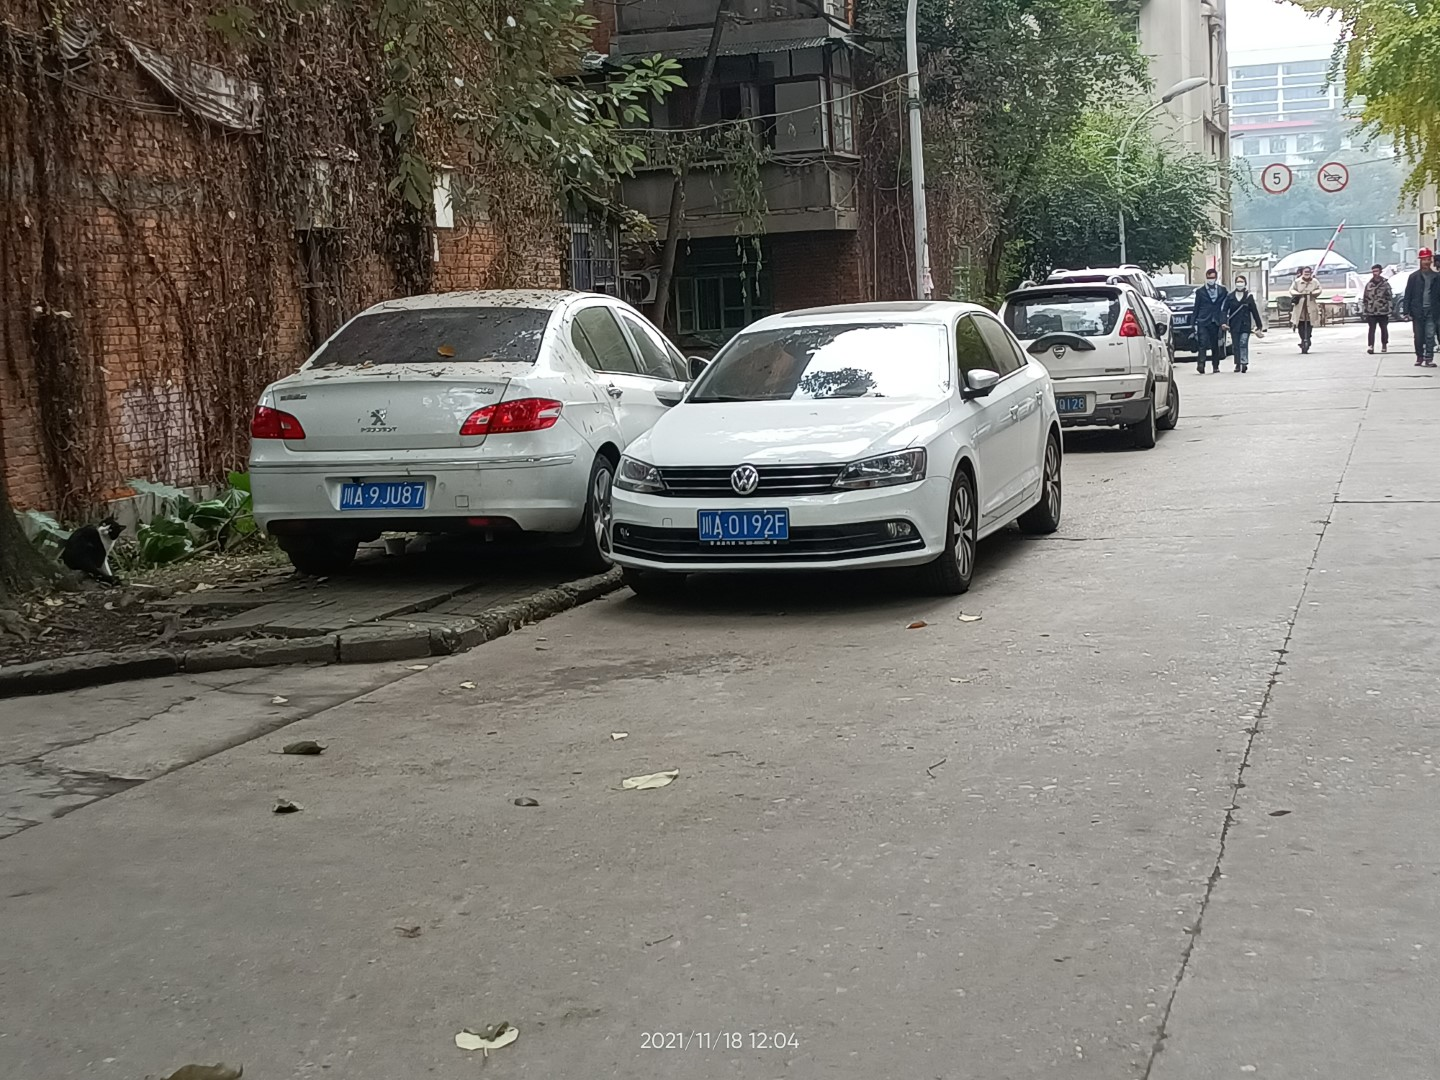plate: (698, 508, 789, 540), (339, 479, 427, 509)
